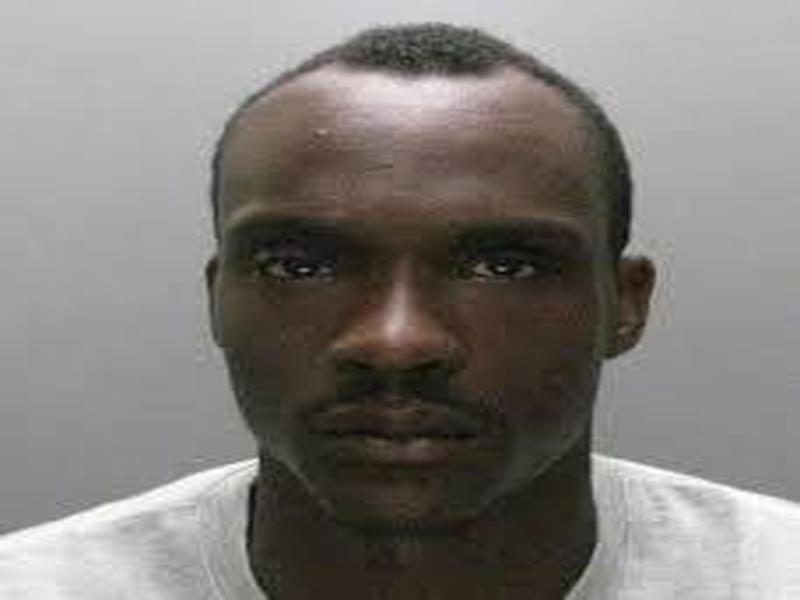without_mask: (215, 166, 613, 531)
